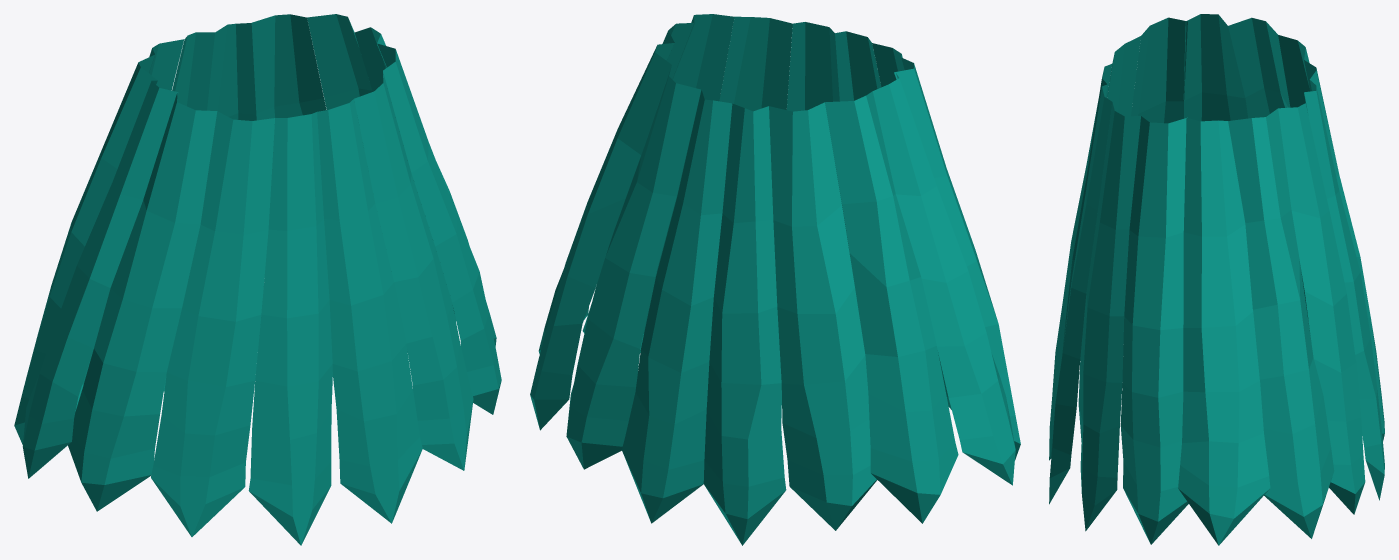
The model's file is newPepito_skirt.FBX.
The picture shows the model from 3 angles, left to right: view 1: azimuth 30°, elevation 25°; view 2: azimuth 150°, elevation 25°; view 3: azimuth 270°, elevation 25°; orthographic projection.
Parts seen in each view (by area): view 1: ClothesCloth; view 2: ClothesCloth; view 3: ClothesCloth.
Part boxes in pixels (left/top/right/bottom): ClothesCloth: left=14, top=14, right=501, bottom=545; ClothesCloth: left=530, top=14, right=1020, bottom=545; ClothesCloth: left=1049, top=14, right=1384, bottom=545.
Bounding box in the file's own units: 23.45 × 14.77 × 20.16.
